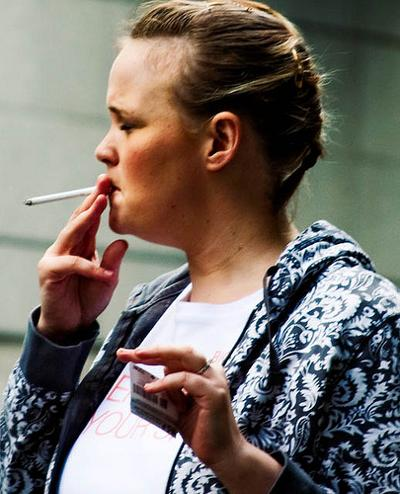person: (2, 3, 398, 494)
